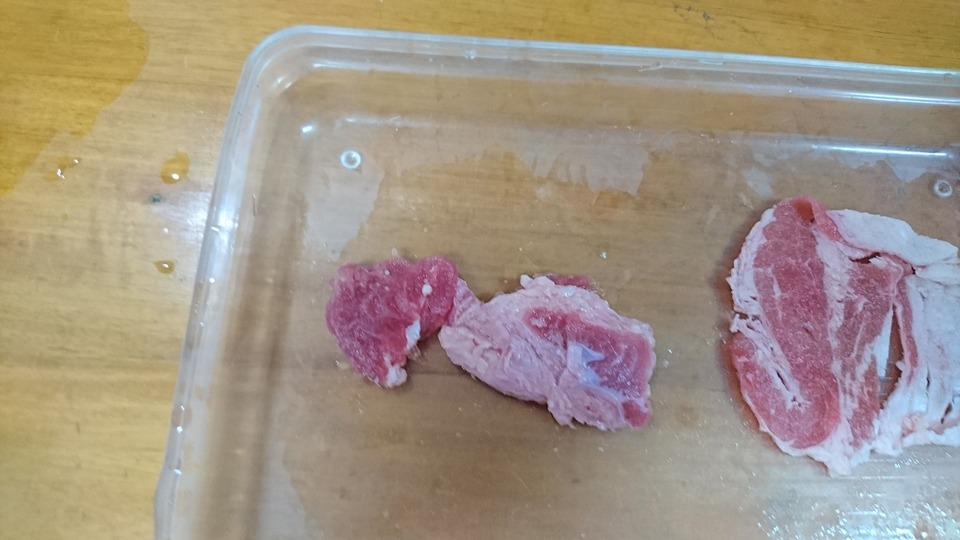restructured meat: (721, 201, 960, 474), (316, 258, 655, 432)
